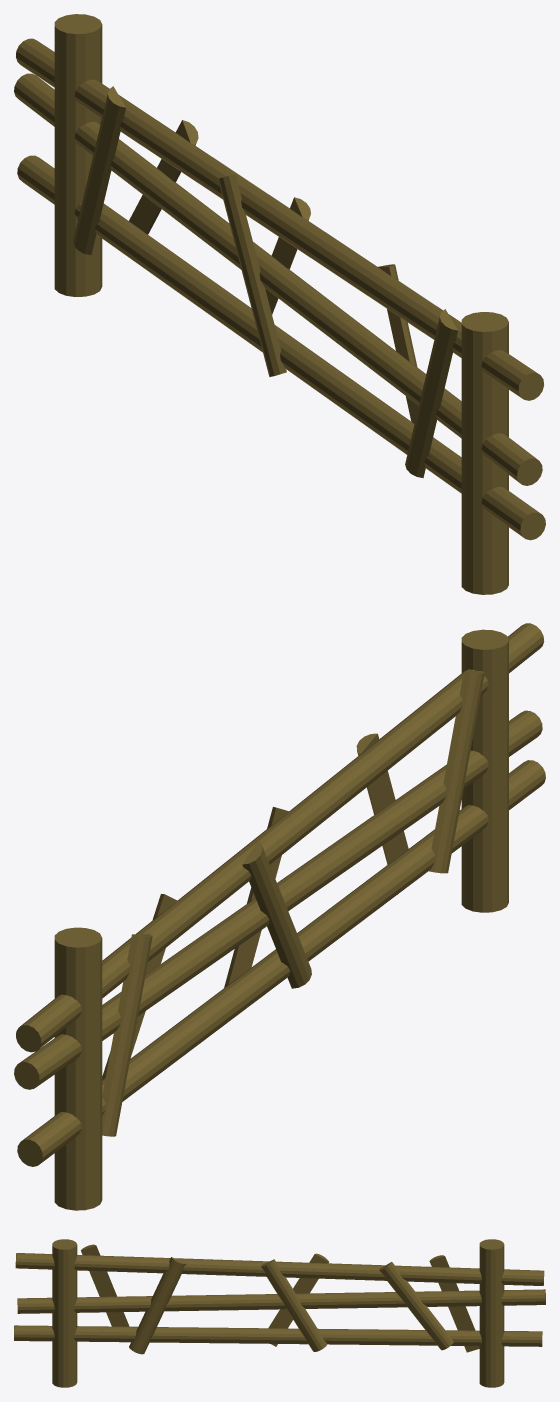
Rendered from french.fbx.
The picture shows the model from 3 angles, top to bottom: view 1: azimuth 30°, elevation 25°; view 2: azimuth 150°, elevation 25°; view 3: azimuth 270°, elevation 25°; orthographic projection. The views are drawn at different scales.
Visible parts, largest first — view 1: french; view 2: french; view 3: french.
Part boxes in pixels (x1,y1,x2,y2): french: (14, 14, 545, 594); french: (14, 623, 545, 1210); french: (14, 1239, 545, 1387).
Bounding box in the file's own units: 58.47 × 356 × 1242.
